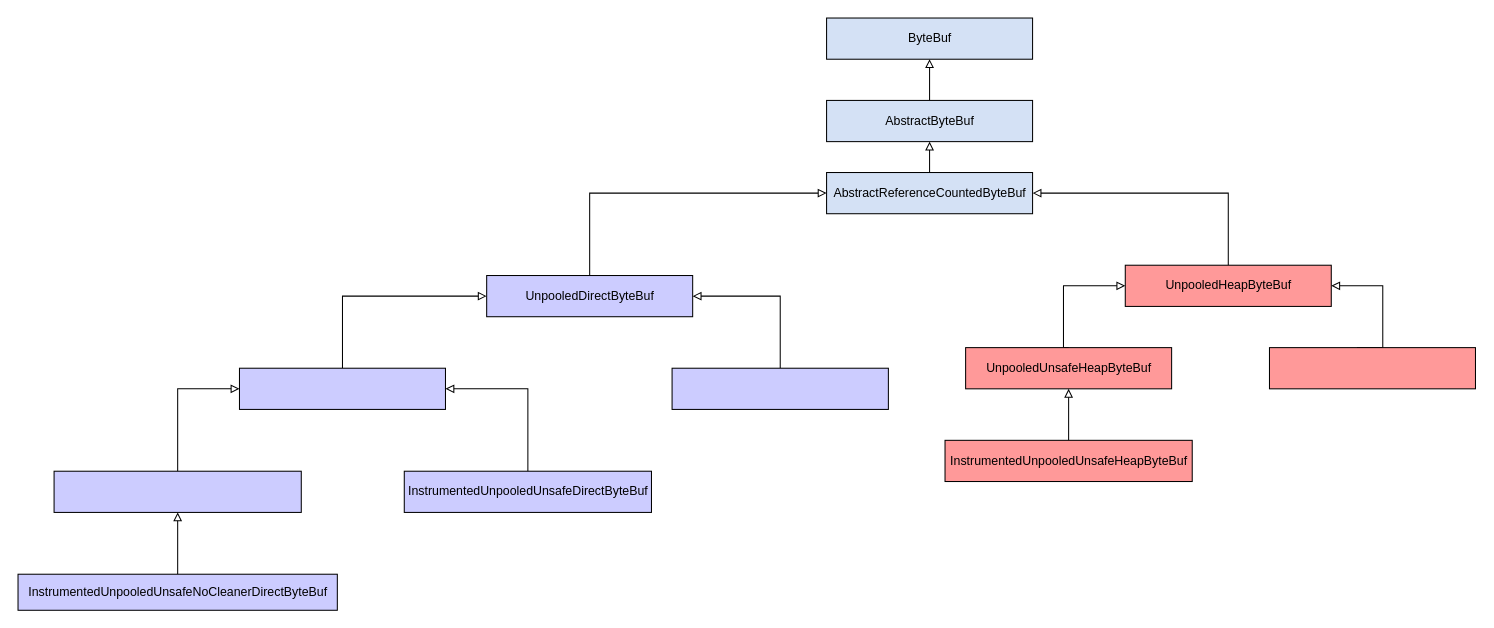
The diagram is 1494 pixels wide and 628 high, and some of its shapes have lost their labels. Each missing label, with the box of its shape:
InstrumentedUnpooledDirectByteBuf: (671, 367, 888, 409)
InstrumentedUnpooledHeapByteBuf: (1268, 347, 1475, 389)
UnpooledUnsafeDirectByteBuf: (238, 367, 445, 409)
UnpooledUnsafeNoCleanerDirectByteBuf: (53, 470, 301, 512)
